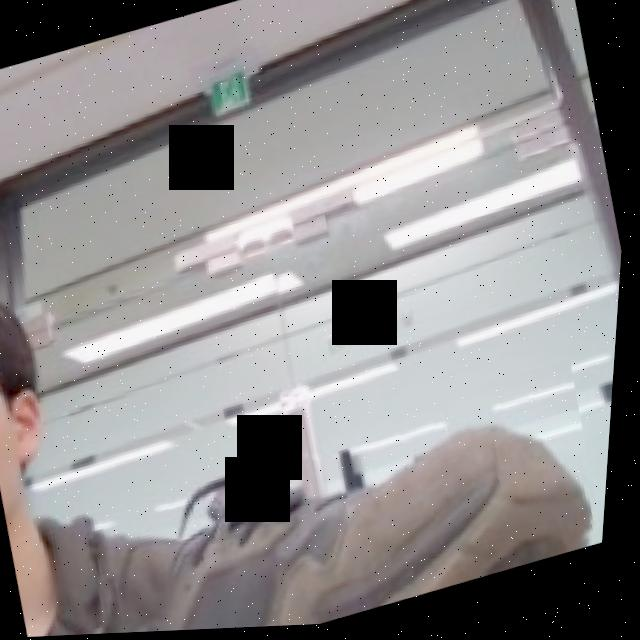shoe: (42, 348, 621, 637)
